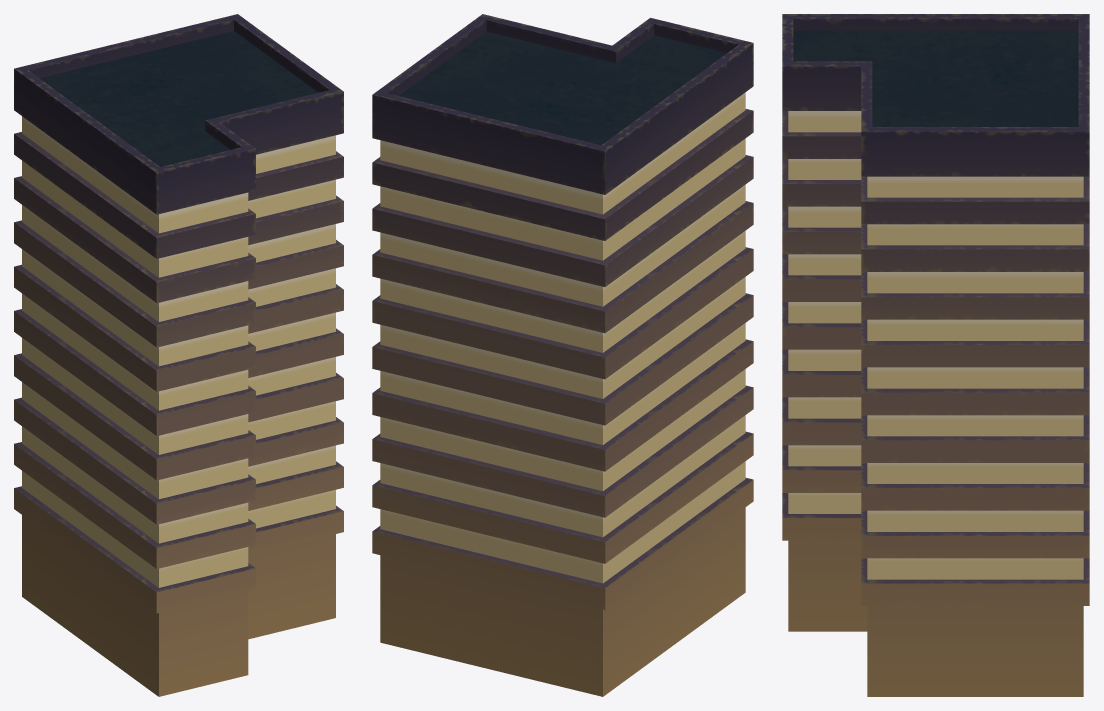
File: Building_B.fbx
3 renders of one model, left to right at view 1: azimuth 30°, elevation 25°; view 2: azimuth 150°, elevation 25°; view 3: azimuth 270°, elevation 25°, orthographic. The views are drawn at different scales.
Visible parts, largest first — view 1: Building_B_02; view 2: Building_B_02; view 3: Building_B_02.
Part boxes in pixels (left/top/right/bottom): Building_B_02: left=14, top=14, right=343, bottom=696; Building_B_02: left=372, top=14, right=753, bottom=696; Building_B_02: left=782, top=14, right=1089, bottom=696.
Bounding box in the file's own units: 333 × 749 × 367.
